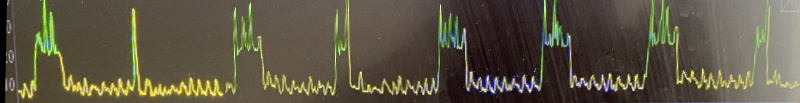hydrop_pressure: (8, 0, 790, 103)
